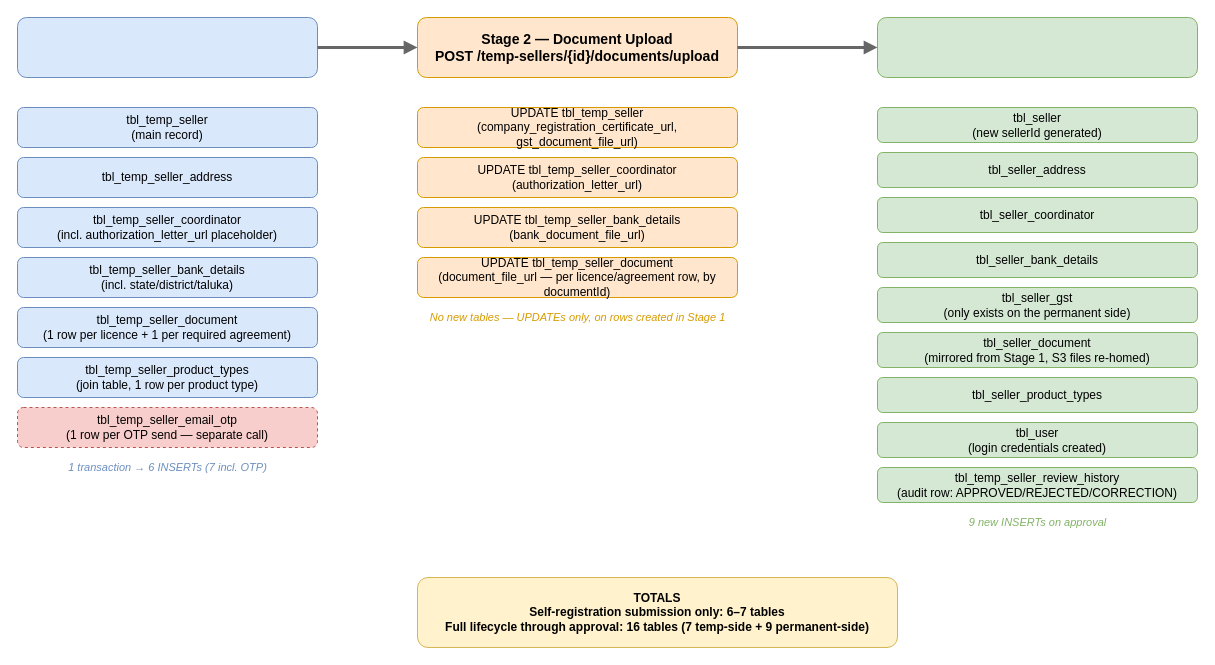
The diagram is 1215 pixels wide and 665 high, and some of its shapes have lost their labels. The shapes that lost their labels are listed below. From the top down, each one's box as (x1, y1, x2, y2) in pixels, then its label:
(16, 16, 318, 78): Stage 1 — Seller Registration POST /temp-sellers
(876, 16, 1198, 78): Stage 3 — Admin Approval (ACCEPT) separate action, not part of self-registration
